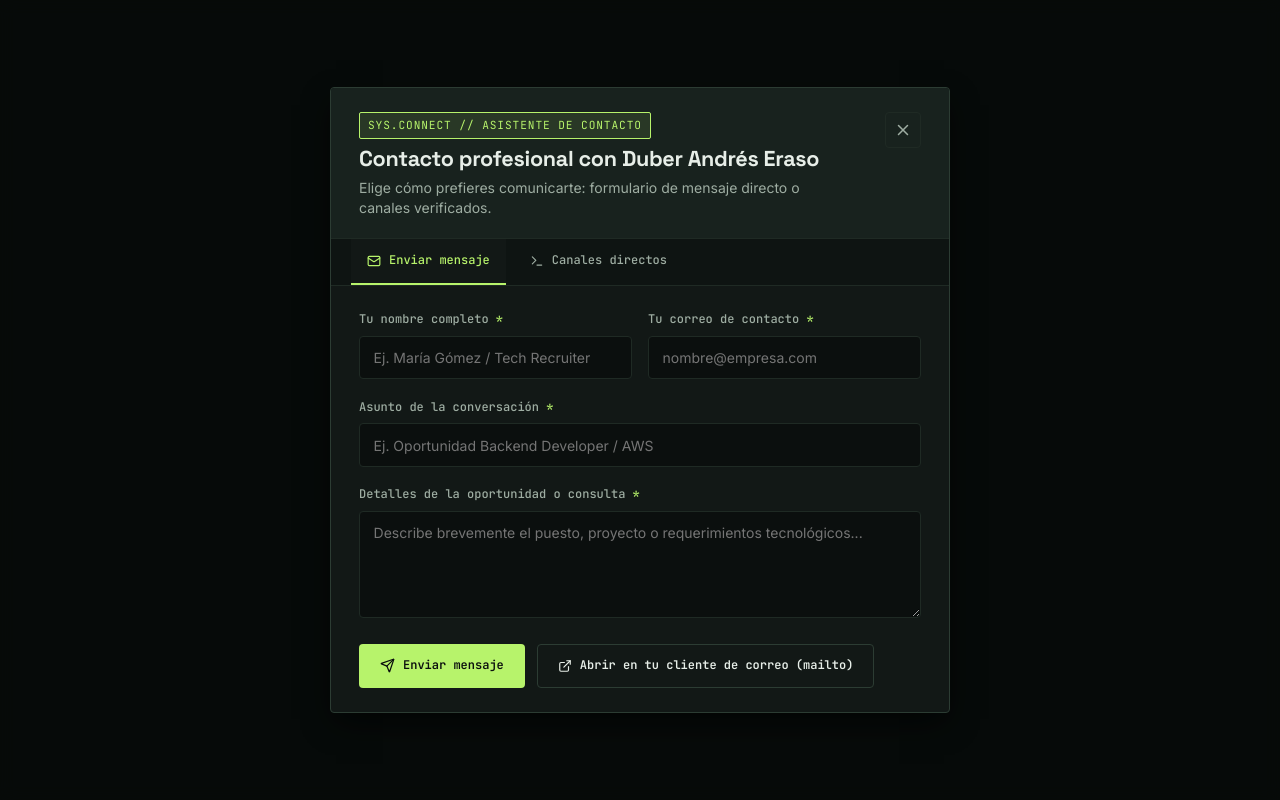
Scenario: Modal de Contacto Profesional y Flujo de Interacción › permite alternar a la pestaña de canales directos y muestra los datos verificados
Click the tab "Canales directos" at (598, 262), box [514,240,683,285]
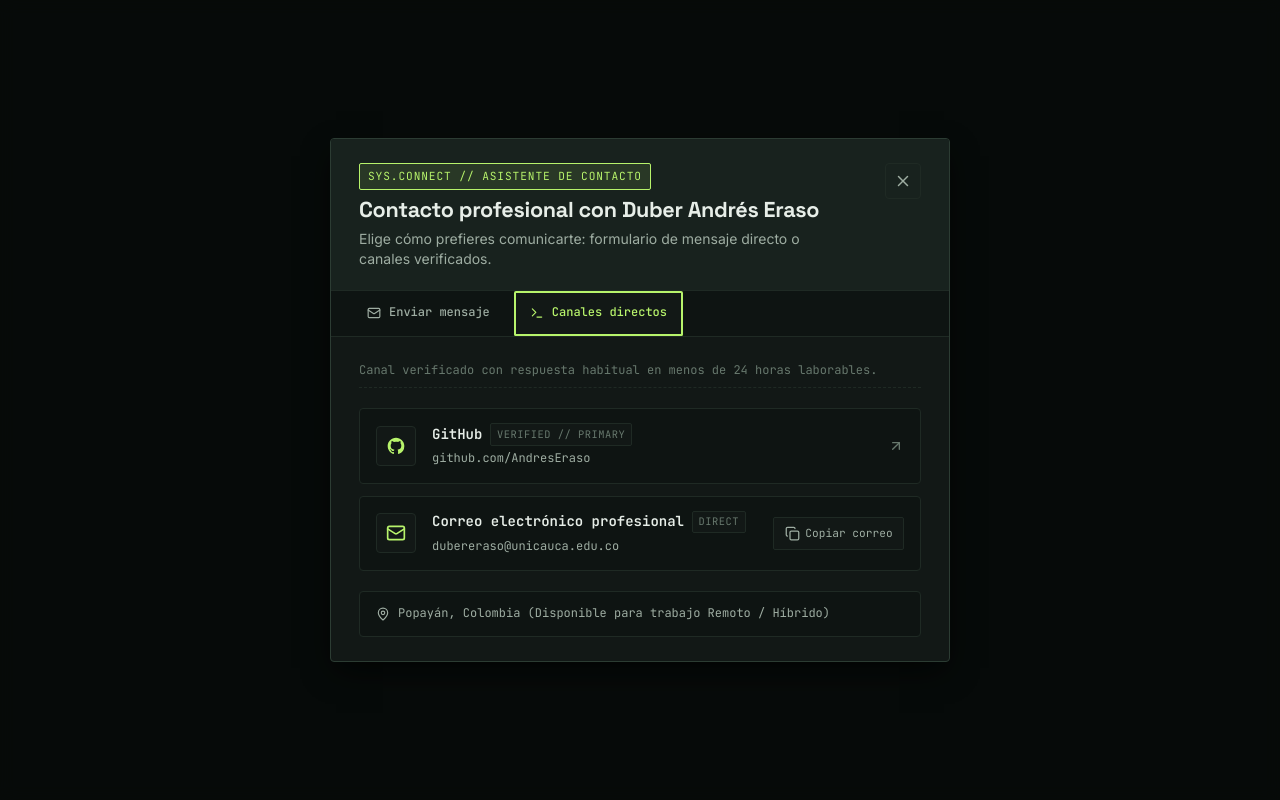
expect the text "github.com/AndresEraso" is shown: met, box [432,450,590,466]
expect the link "dubereraso@unicauca.edu.co" is shown: met, box [432,538,619,554]
expect the text "Popayán, Colombia (Disponible para trabajo Remoto / Híbrido)" is shown: met, box [398,604,830,624]
